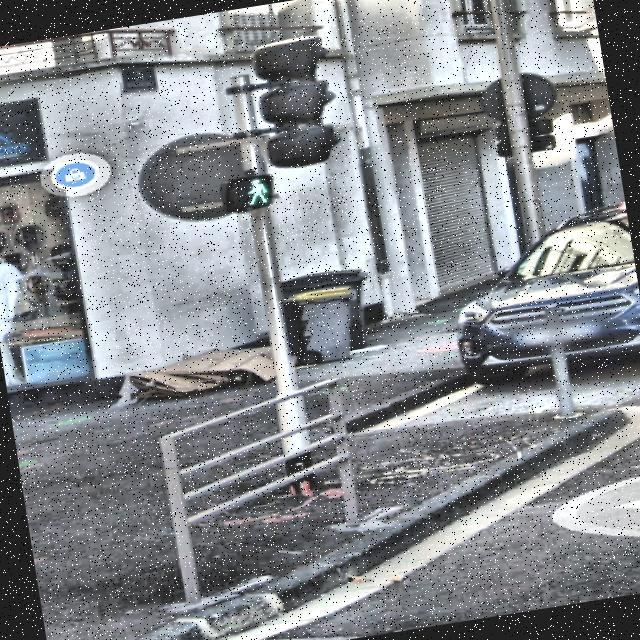green_light: (238, 172, 272, 207)
